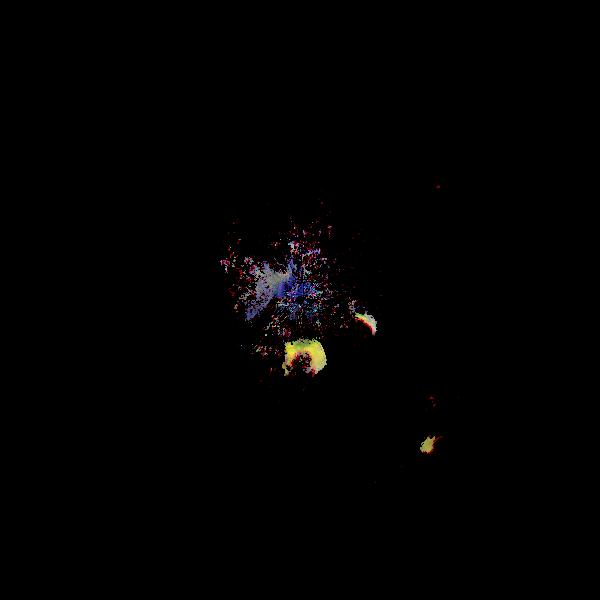roost: (261, 328, 342, 409), (318, 306, 390, 378), (413, 430, 476, 493)
